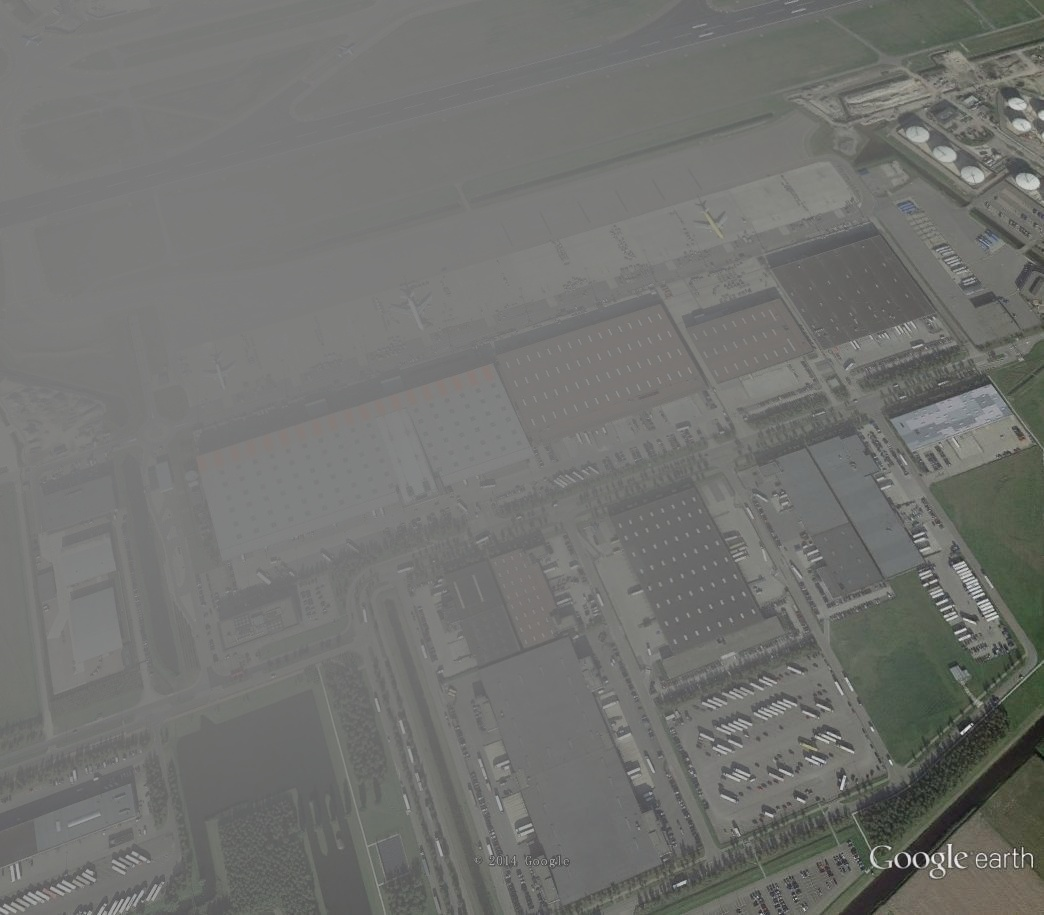aircraft: (385, 283, 435, 337), (201, 351, 238, 394), (693, 205, 729, 244), (18, 33, 46, 49), (336, 42, 358, 61)
